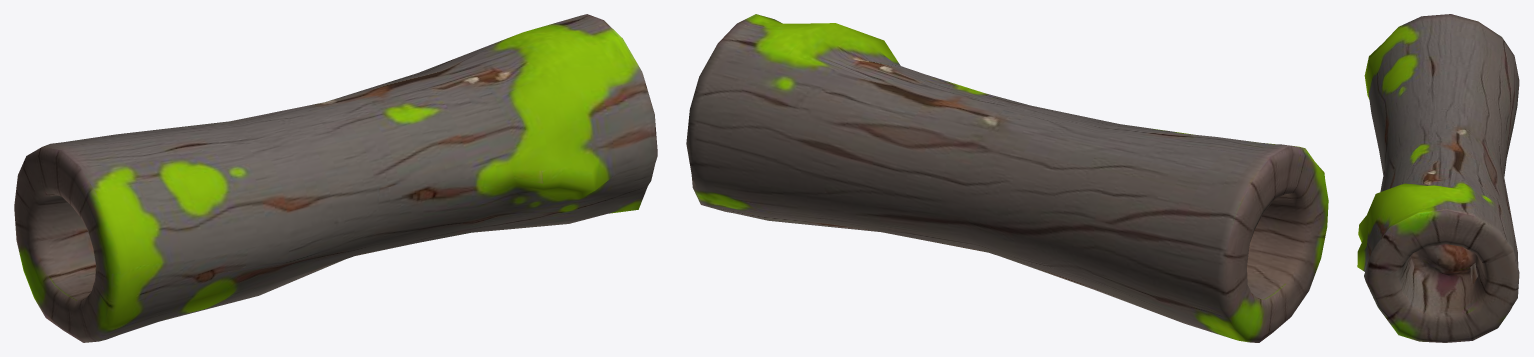
Rendered from p_log_fallen.glb.
The picture shows the model from 3 angles, left to right: view 1: azimuth 30°, elevation 25°; view 2: azimuth 150°, elevation 25°; view 3: azimuth 270°, elevation 25°; orthographic projection. The views are drawn at different scales.
Parts seen in each view (by area): view 1: Mesh_0; view 2: Mesh_0; view 3: Mesh_0.
Part boxes in pixels (left/top/right/bottom): Mesh_0: left=14, top=14, right=657, bottom=342; Mesh_0: left=686, top=14, right=1328, bottom=342; Mesh_0: left=1357, top=14, right=1519, bottom=342.
Bounding box in the file's own units: 0.2211 × 0.07 × 0.076.
Materials: 1 (1 with a texture image).
